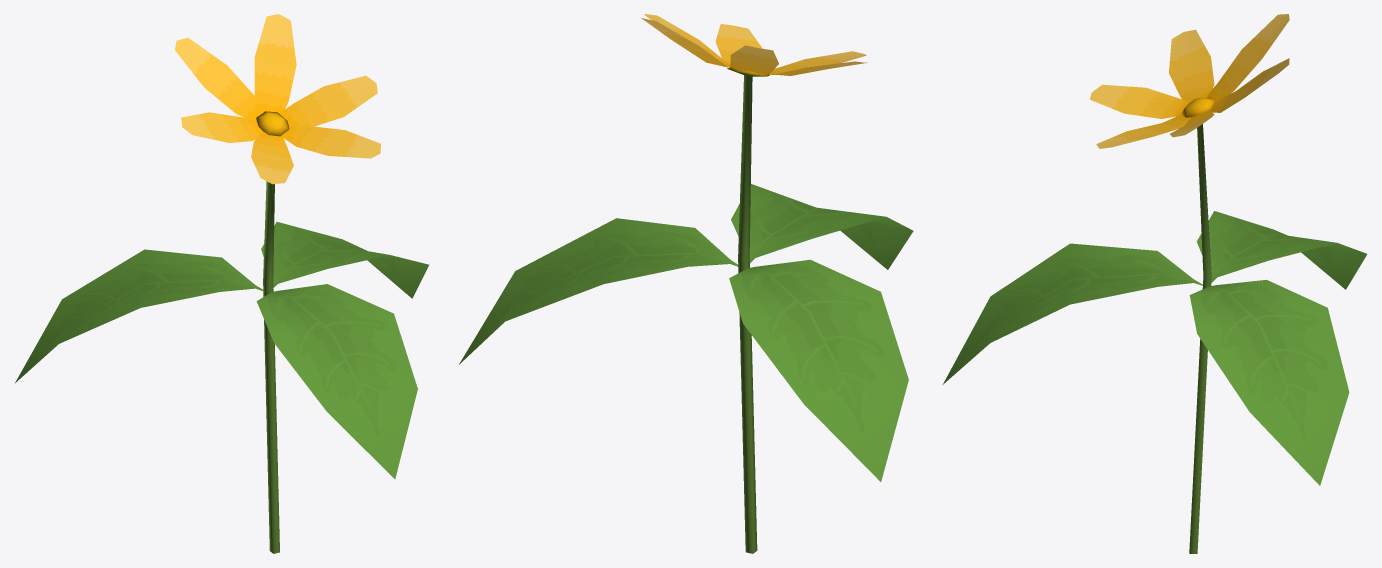
Rendered from AnemoneYellow.fbx.
3 renders of one model, left to right at view 1: azimuth 30°, elevation 25°; view 2: azimuth 150°, elevation 25°; view 3: azimuth 270°, elevation 25°, orthographic. The views are drawn at different scales.
Visible parts, largest first — view 1: AnemoneYellow; view 2: AnemoneYellow; view 3: AnemoneYellow.
Boxes of the visible parts, <box> form: AnemoneYellow: <box>15,14,428,553</box>; AnemoneYellow: <box>459,14,913,553</box>; AnemoneYellow: <box>942,14,1367,553</box>.
Bounding box in the file's own units: 394 × 481 × 361.
